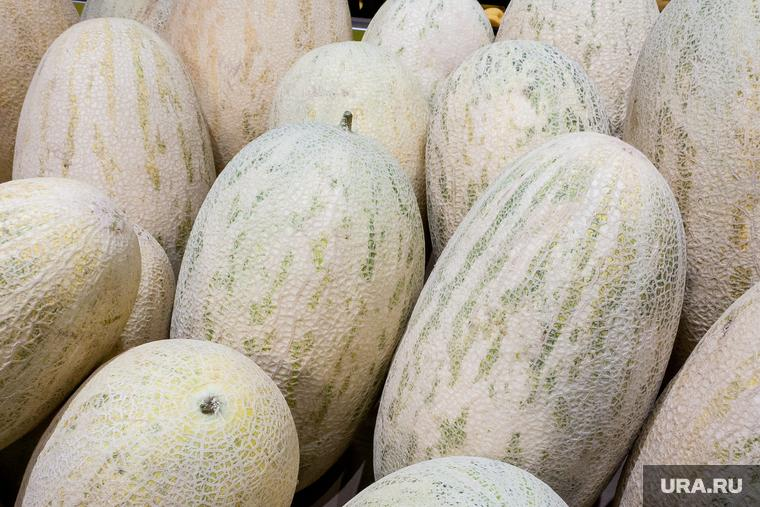melon: (371, 130, 687, 505), (168, 110, 426, 491), (10, 15, 216, 273), (621, 0, 759, 373), (14, 337, 300, 506), (424, 38, 611, 261), (0, 175, 141, 450), (494, 0, 660, 135), (341, 455, 569, 506)
